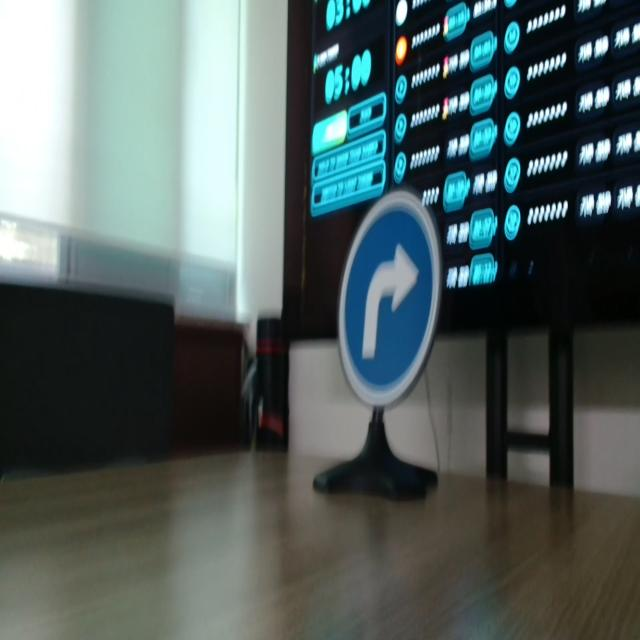right_dierection: (326, 158, 448, 419)
